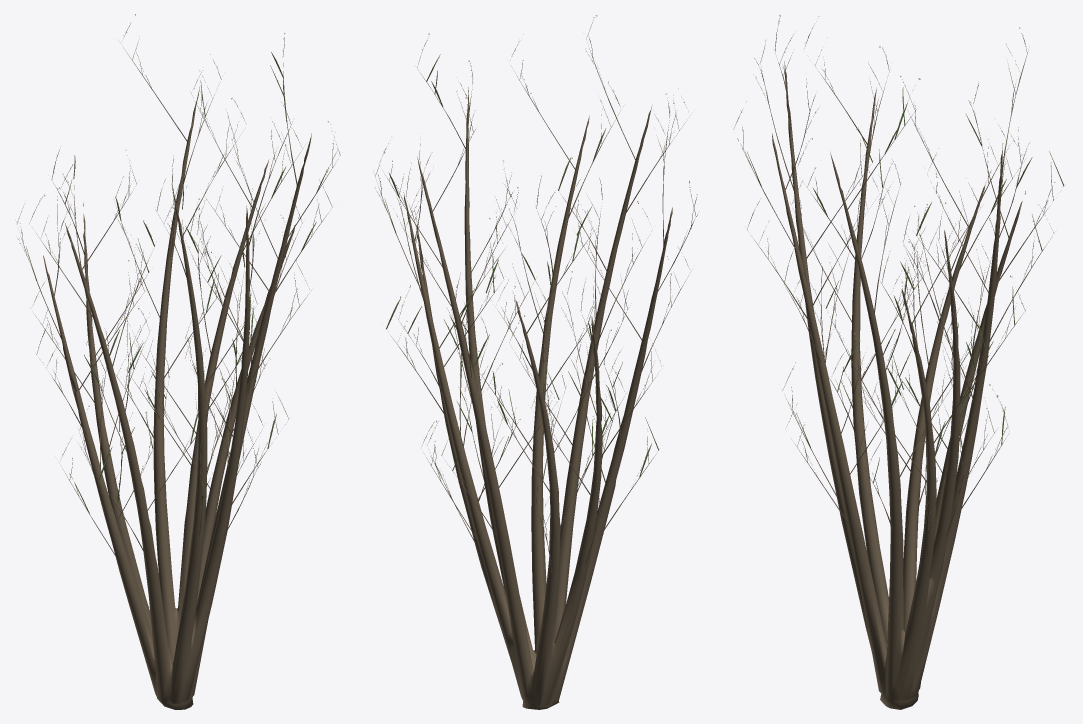
File: Bruyere_1_Niveau0.fbx
3 views of the same model, side by side, from view 1: azimuth 30°, elevation 25°; view 2: azimuth 150°, elevation 25°; view 3: azimuth 270°, elevation 25° (orthographic). The views are drawn at different scales.
Parts seen in each view (by area): view 1: Bruyere_1_Niveau0; view 2: Bruyere_1_Niveau0; view 3: Bruyere_1_Niveau0.
Boxes of the visible parts, <box> form: Bruyere_1_Niveau0: <box>17,14,340,709</box>; Bruyere_1_Niveau0: <box>375,15,697,709</box>; Bruyere_1_Niveau0: <box>733,15,1064,709</box>.
Bounding box in the file's own units: 138 × 279 × 125.
